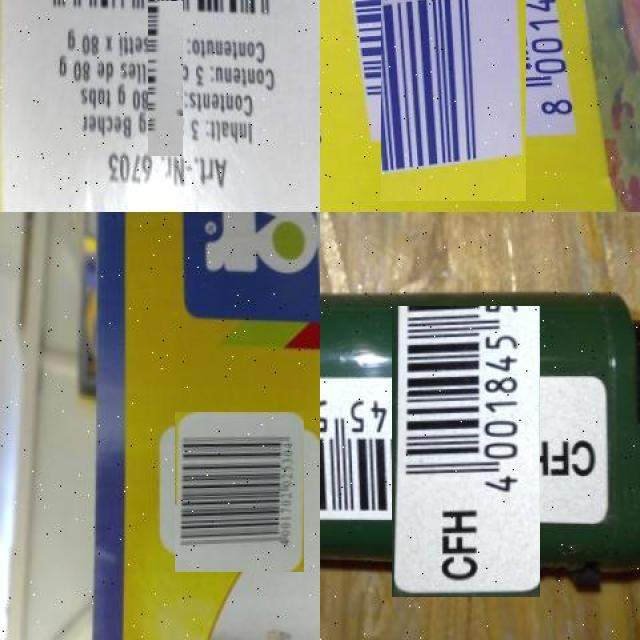Barcode: (356, 342, 576, 562), (352, 0, 553, 174), (167, 420, 312, 565), (87, 0, 243, 96)
